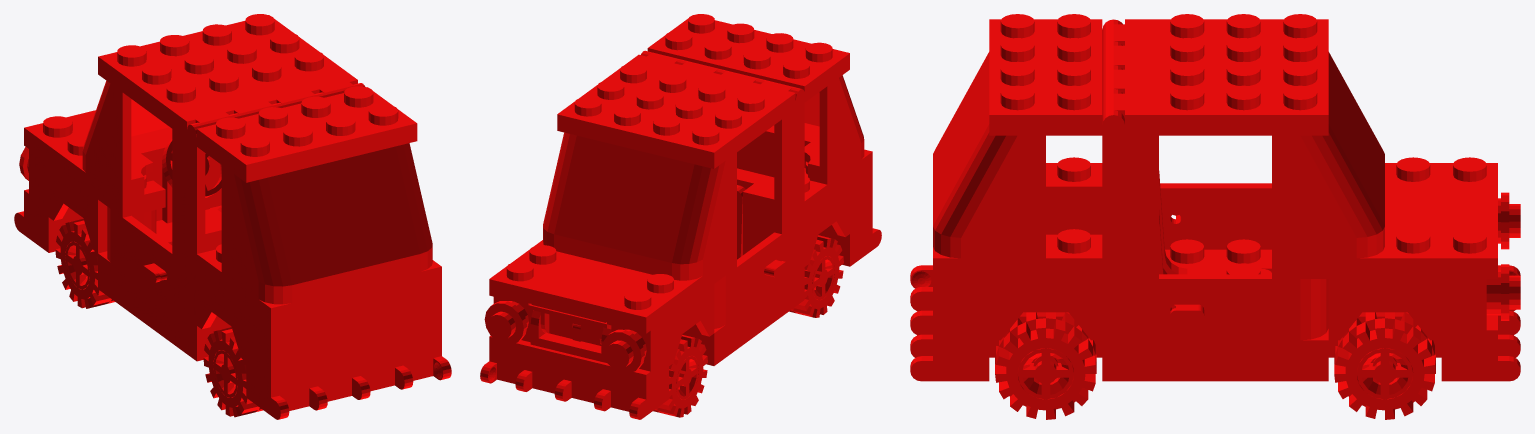
3 renders of one model, left to right at view 1: azimuth 30°, elevation 25°; view 2: azimuth 150°, elevation 25°; view 3: azimuth 270°, elevation 25°, orthographic. The views are drawn at different scales.
Visible parts, largest first — view 1: thing; view 2: thing; view 3: thing.
Part boxes in pixels (x1,y1,x2,y2): thing: (14, 14, 451, 419); thing: (480, 14, 881, 419); thing: (910, 14, 1520, 419).
Size of the model in its own units: 90 by 124 by 216.
